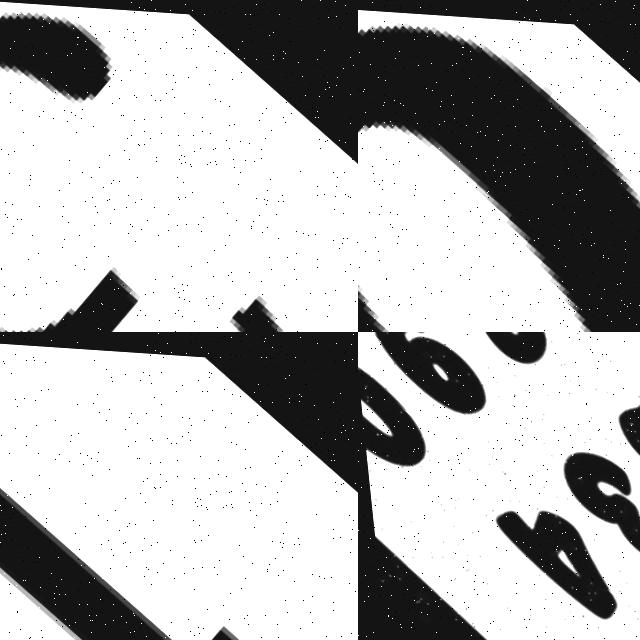0: (358, 0, 640, 332), (358, 332, 488, 534)
2: (572, 356, 640, 550)
3: (0, 0, 358, 332), (511, 404, 640, 604)
4: (435, 441, 640, 640)
8: (375, 332, 600, 413)
9: (358, 332, 531, 462)
T: (0, 362, 358, 640)
